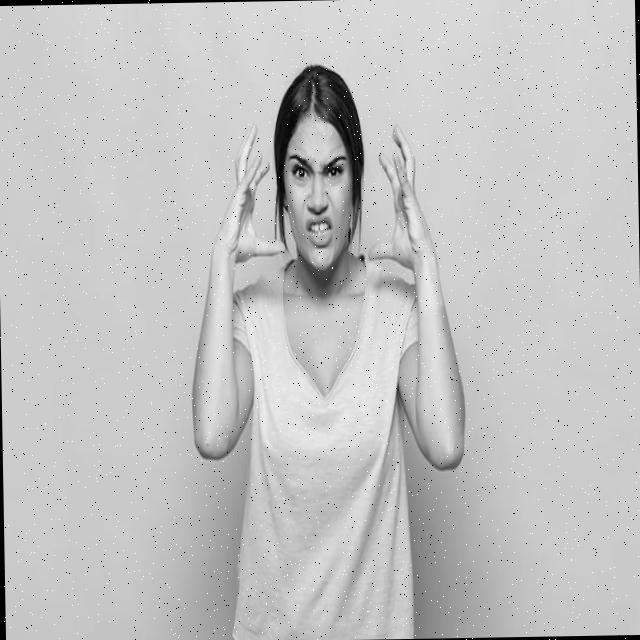Angry: (282, 120, 356, 271)
